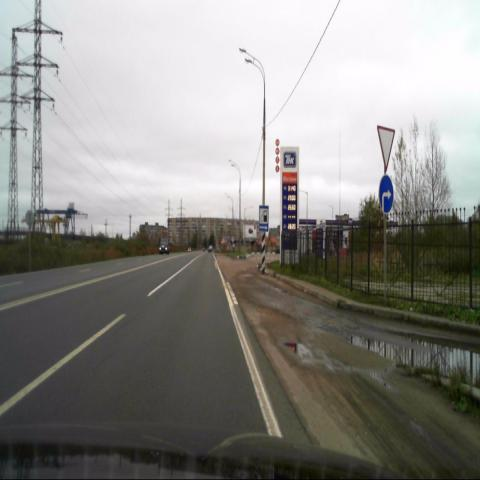7_3: (258, 205, 268, 232)
